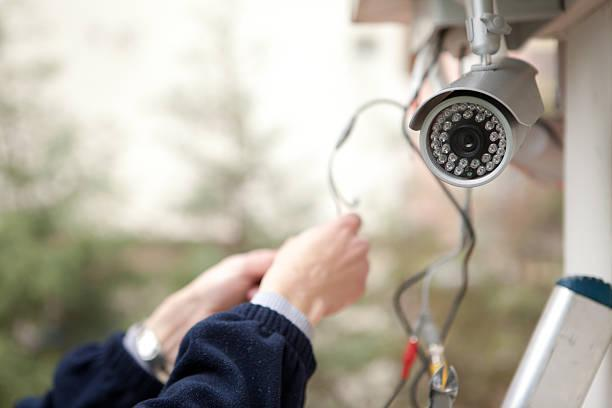camera: (389, 30, 549, 202)
